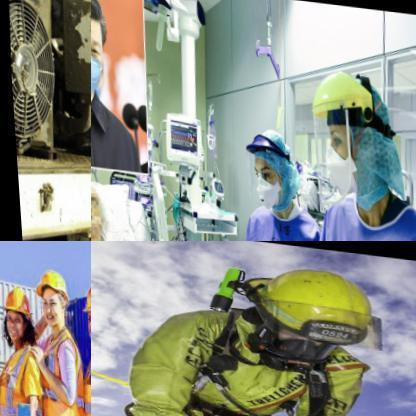vest: (121, 290, 376, 415), (308, 188, 415, 240), (34, 323, 87, 415), (0, 338, 48, 415)
